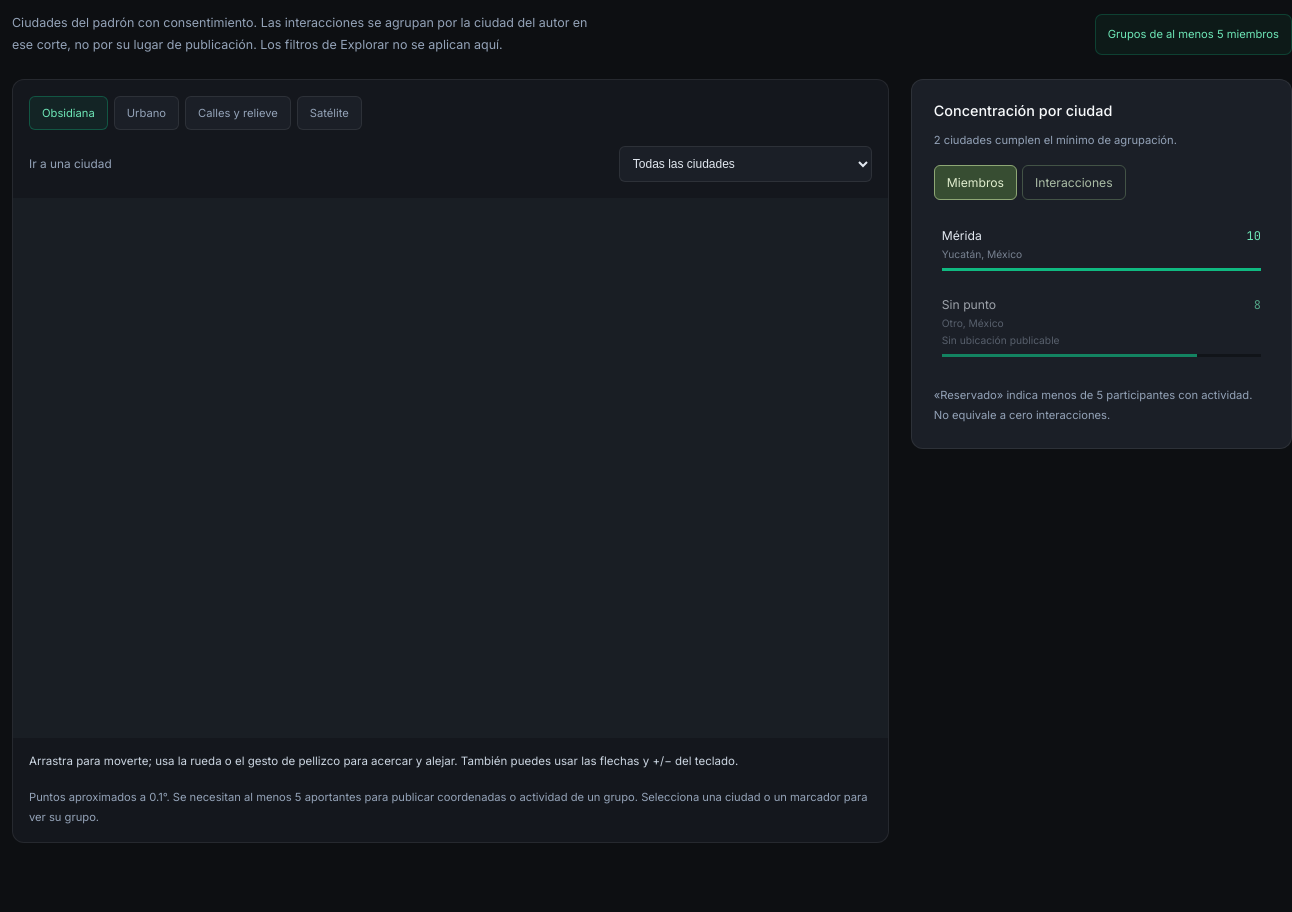
Scenario: acota el mapa, evita repetición del planeta y omite marcadores sin coordenadas publicables
Expected: the button "Sin punto Otro, México Sin ubicación publicable 8" is disabled, [934,284,1269,370]
Click the button "Interacciones": (1074, 183) [1022,165,1126,200]
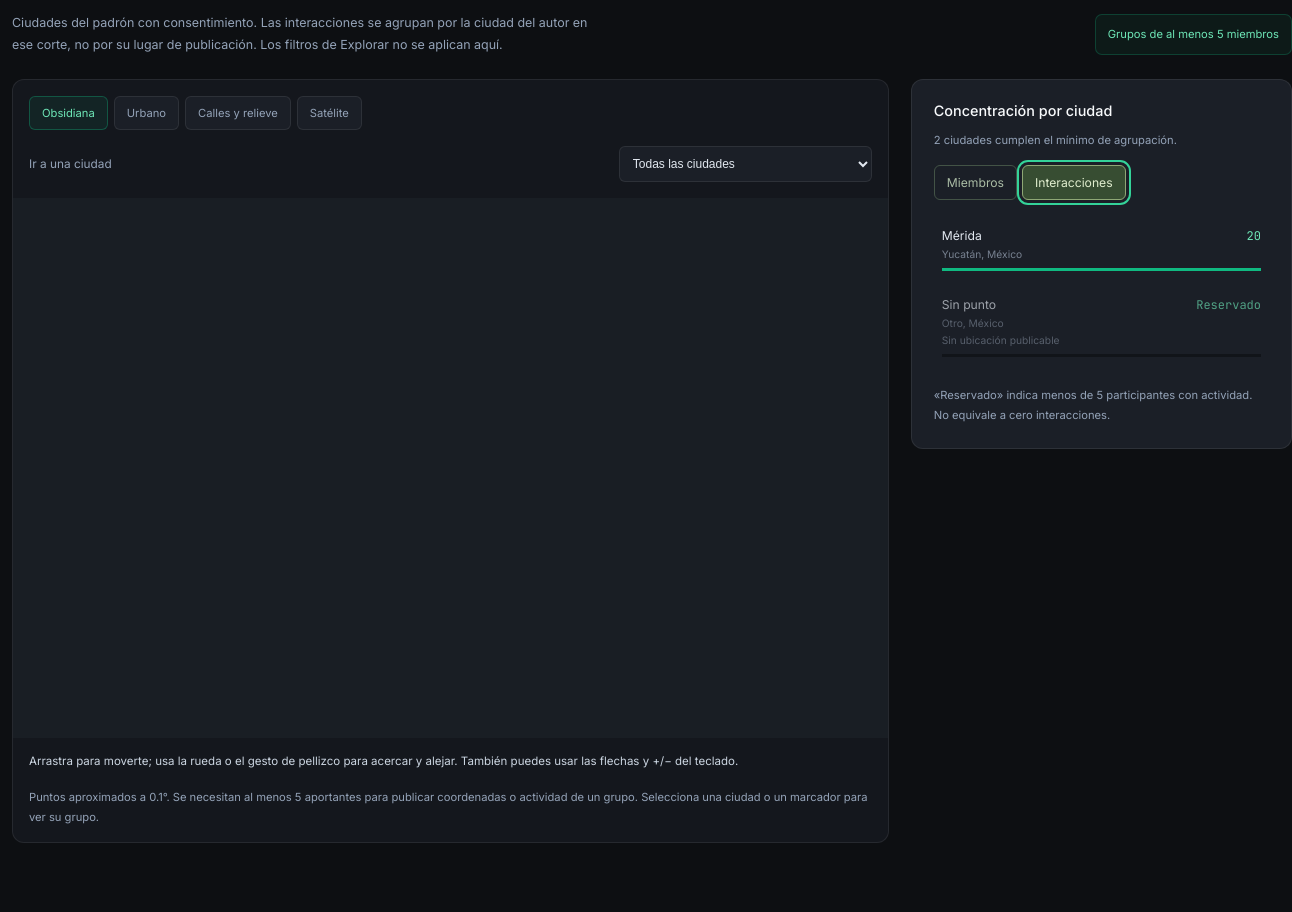
Expected: the text "Reservado" is shown, [1196,297,1261,313]
